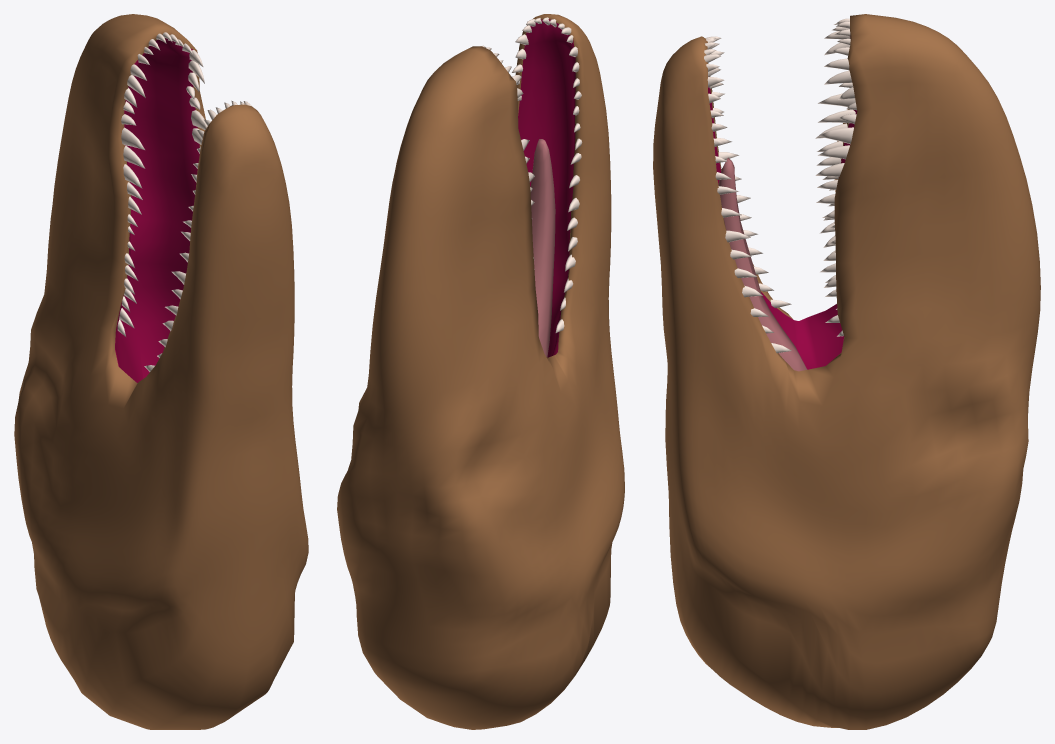
The model's file is Ophiapzid.fbx.
3 renders of one model, left to right at view 1: azimuth 30°, elevation 25°; view 2: azimuth 150°, elevation 25°; view 3: azimuth 270°, elevation 25°, orthographic. The views are drawn at different scales.
Visible parts, largest first — view 1: Ophiapzid - Poliostasis; view 2: Ophiapzid - Poliostasis; view 3: Ophiapzid - Poliostasis.
Part boxes in pixels (bbox=[...]): Ophiapzid - Poliostasis: bbox=[14, 14, 308, 729]; Ophiapzid - Poliostasis: bbox=[337, 14, 624, 729]; Ophiapzid - Poliostasis: bbox=[653, 14, 1040, 729].
Size of the model in its own units: 37.63 by 127 by 63.81.
